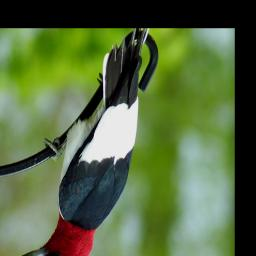Woodpecker: (16, 29, 153, 256)
